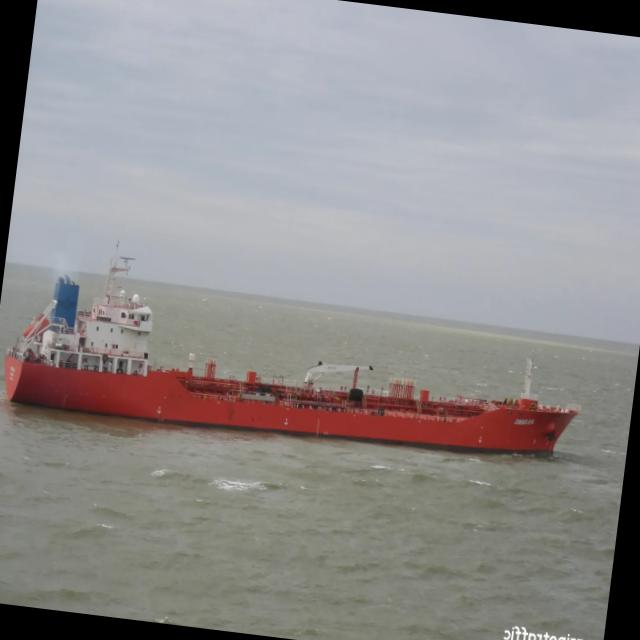Tanker: (5, 260, 579, 454)
